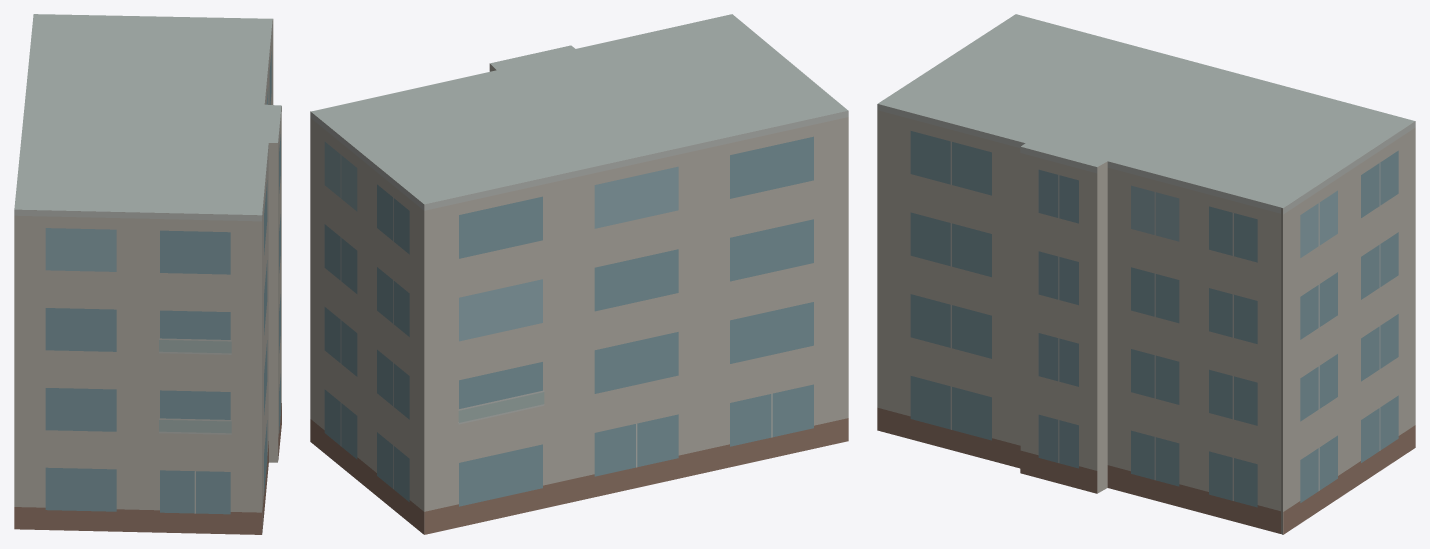
The model's file is survey-upis-33033437.glb.
The picture shows the model from 3 angles, left to right: view 1: azimuth 30°, elevation 25°; view 2: azimuth 150°, elevation 25°; view 3: azimuth 270°, elevation 25°; orthographic projection. The views are drawn at different scales.
Parts seen in each view (by area): view 1: survey-upis-33033437.tmp; view 2: survey-upis-33033437.tmp; view 3: survey-upis-33033437.tmp.
Part boxes in pixels (<box>): survey-upis-33033437.tmp: <box>14,14,281,534</box>; survey-upis-33033437.tmp: <box>310,14,848,534</box>; survey-upis-33033437.tmp: <box>877,14,1415,534</box>.
Size of the model in its own units: 16.21 by 12.7 by 18.97.
